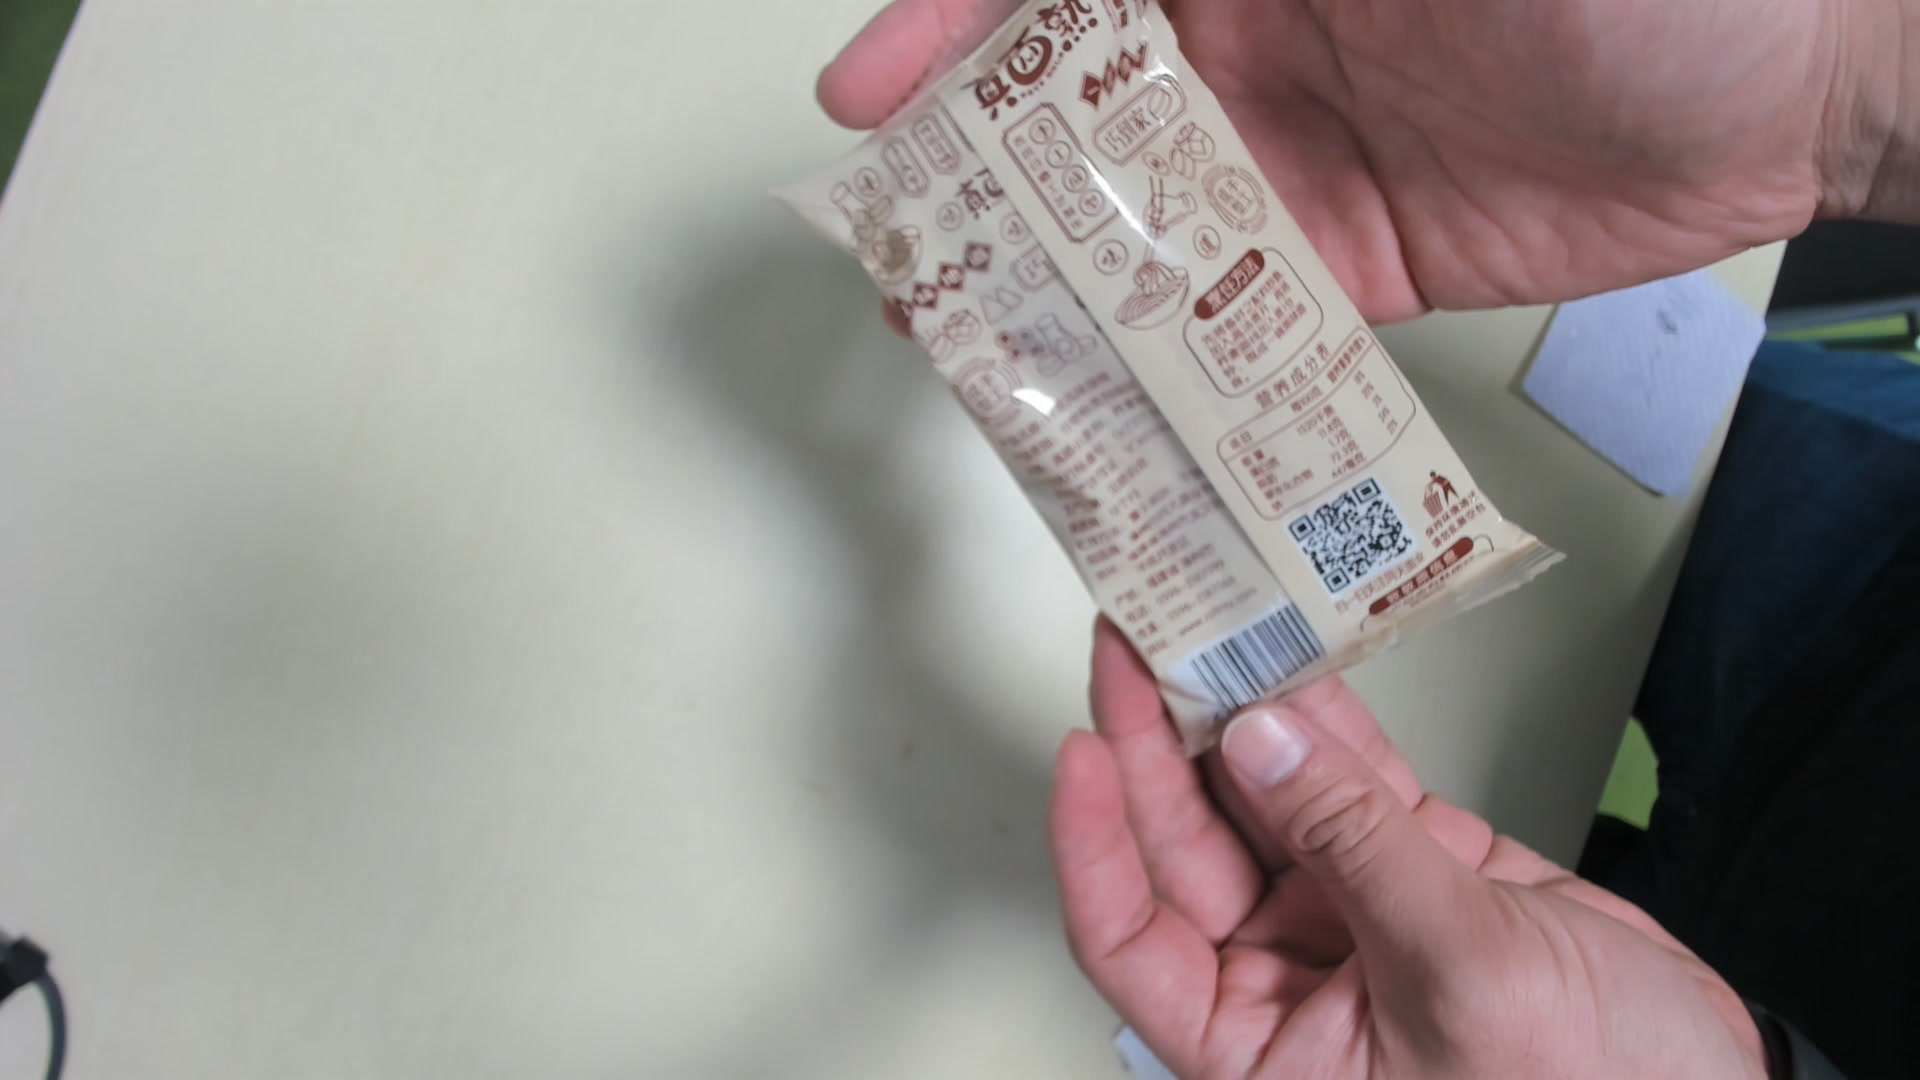BeeHoonVermicelli_0-99g_NonHalal_NonHealthy: (782, 1, 1563, 756)
